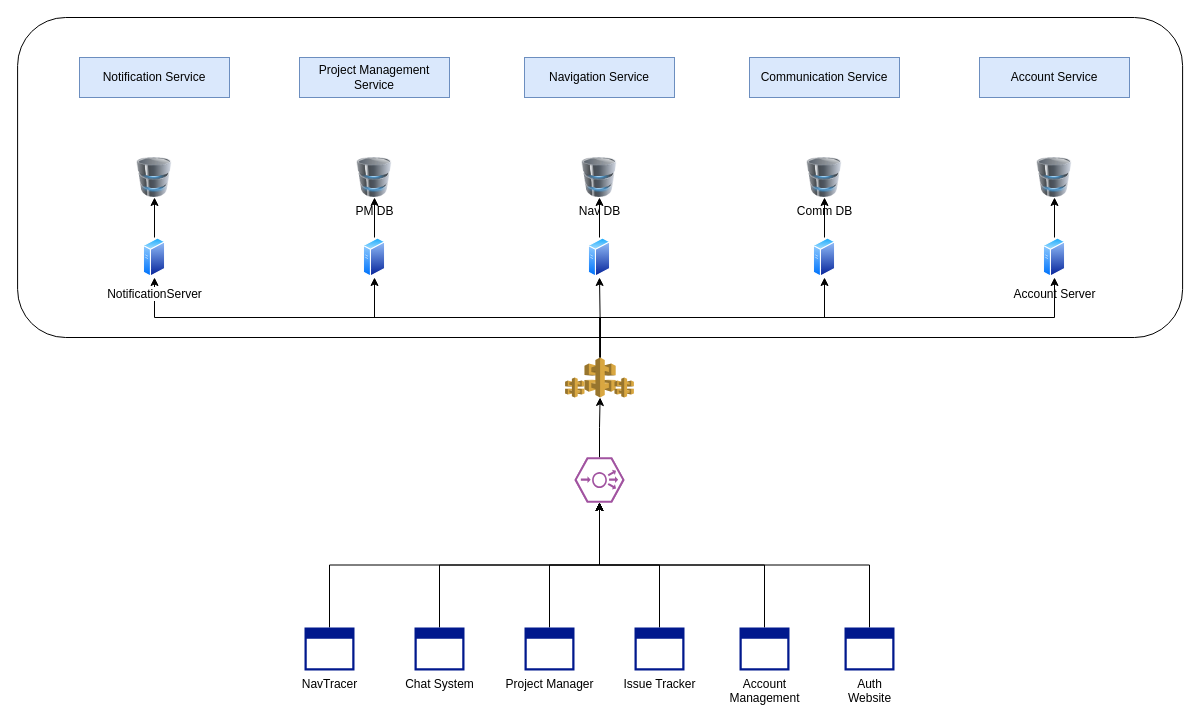
Image size: 1200x724. Some labels were removed from this diagram. Each missing label, with the box of its shape:
Account DB: (1034, 157, 1074, 197)
API Gateway: (584, 356, 616, 398)
CommServer: (813, 237, 835, 277)
Load Balancer: (574, 456, 624, 502)
NavServer: (588, 237, 610, 277)
NotificationQueue DB: (134, 157, 174, 197)
PMServer: (363, 237, 385, 277)
